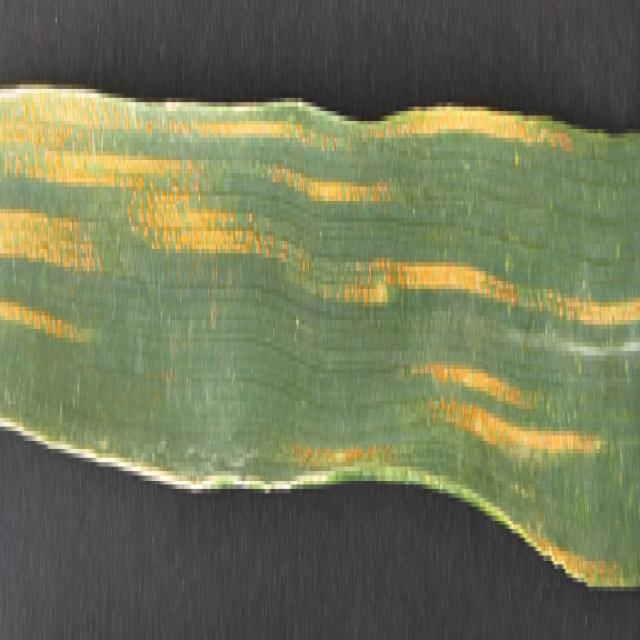leaf rust: (0, 93, 640, 528)
